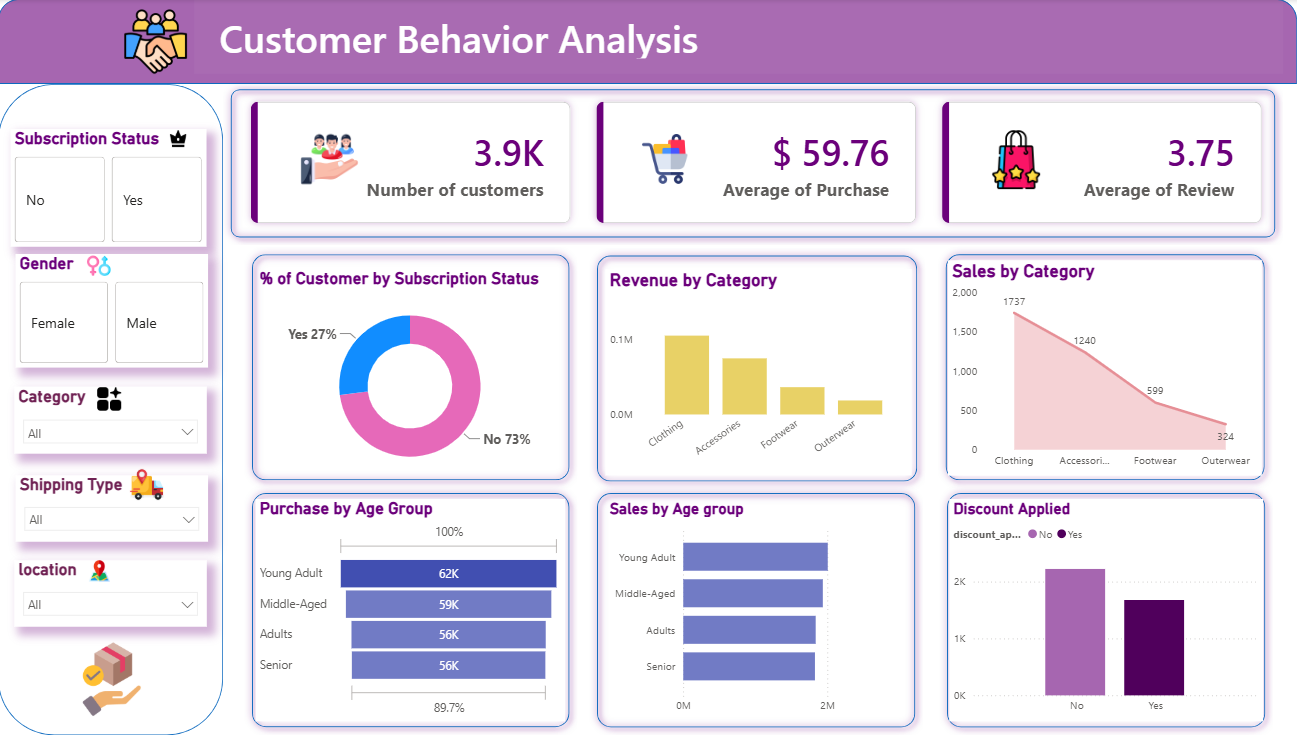

This screenshot's page, from the dashboard's own definition file:
{"tool":"powerbi","page":{"name":"Page 1","canvas":[1500,850],"ordinal":0},"visuals":[{"type":"cardVisual","fields":{"Data":["customer_data.Number of customers","customer_data.Average of Purchase","customer_data.Average of Review"]},"box":[236.4,97.7,1248.2,197],"z":0},{"type":"shape","box":[0,0,1500.3,98.1],"z":1000},{"type":"textbox","box":[0,0,1500.3,98.1],"z":2000},{"type":"shape","box":[682.4,286.8,387.7,278.9],"z":3000},{"type":"donutChart","title":"% of Customer by Subscription Status","fields":{"Category":["customer_data.subscription_status"],"Y":["CountNonNull(customer_data.customer_id)"]},"box":[297.5,312,357,249.3],"z":4000},{"type":"shape","box":[283.7,285.2,384.5,278.9],"z":5000},{"type":"shape","box":[1085.8,285.2,386.1,278.9],"z":6000},{"type":"clusteredColumnChart","title":"Revenue by Category","fields":{"Y":["Sum(customer_data.purchase_amount)"],"Category":["customer_data.category"]},"box":[691.8,312,364,238],"z":7000},{"type":"clusteredColumnChart","title":"Sales by Category","fields":{"Y":["Sum(customer_data.customer_id)"],"Category":["customer_data.category"]},"box":[1096.9,301,362.5,249],"z":7001},{"type":"shape","box":[0,96.1,236.4,753.3],"z":7002},{"type":"advancedSlicerVisual","fields":{"Values":["customer_data.subscription_status"]},"box":[14.2,149.7,208,135.5],"z":7003},{"type":"advancedSlicerVisual","fields":{"Values":["customer_data.gender"]},"box":[14.2,296.3,206.5,130.8],"z":7004},{"type":"slicer","fields":{"Values":["customer_data.category"]},"box":[14.2,447.6,206.5,77.2],"z":7005},{"type":"slicer","fields":{"Values":["customer_data.shipping_type"]},"box":[14.2,550,206.5,77.2],"z":7006},{"type":"shape","box":[283.7,561,384.5,288.4],"z":7007},{"type":"funnel","title":"Purchase by Age Group","fields":{"Y":["Sum(customer_data.purchase_amount)"],"Category":["customer_data.age_group"]},"box":[297.9,576.8,357.7,256.9],"z":7008}]}

Visuals, with their boxes in screenshot pixels (x1, y1, x2, y2), scaled from the page's 1500x850 canvas onto the 1297x735 screenshot:
cardVisual - customer_data.Number of customers x customer_data.Average of Purchase: [204,84,1284,255]
shape: [0,0,1296,85]
textbox: [0,0,1296,85]
shape: [590,248,925,489]
"% of Customer by Subscription Status" donutChart: [257,270,566,485]
shape: [245,247,578,488]
shape: [939,247,1273,488]
"Revenue by Category" clusteredColumnChart: [598,270,913,476]
"Sales by Category" clusteredColumnChart: [948,260,1262,476]
shape: [0,83,204,734]
advancedSlicerVisual - customer_data.subscription_status: [12,129,192,247]
advancedSlicerVisual - customer_data.gender: [12,256,191,369]
slicer - customer_data.category: [12,387,191,454]
slicer - customer_data.shipping_type: [12,476,191,542]
shape: [245,485,578,734]
"Purchase by Age Group" funnel: [258,499,567,721]
